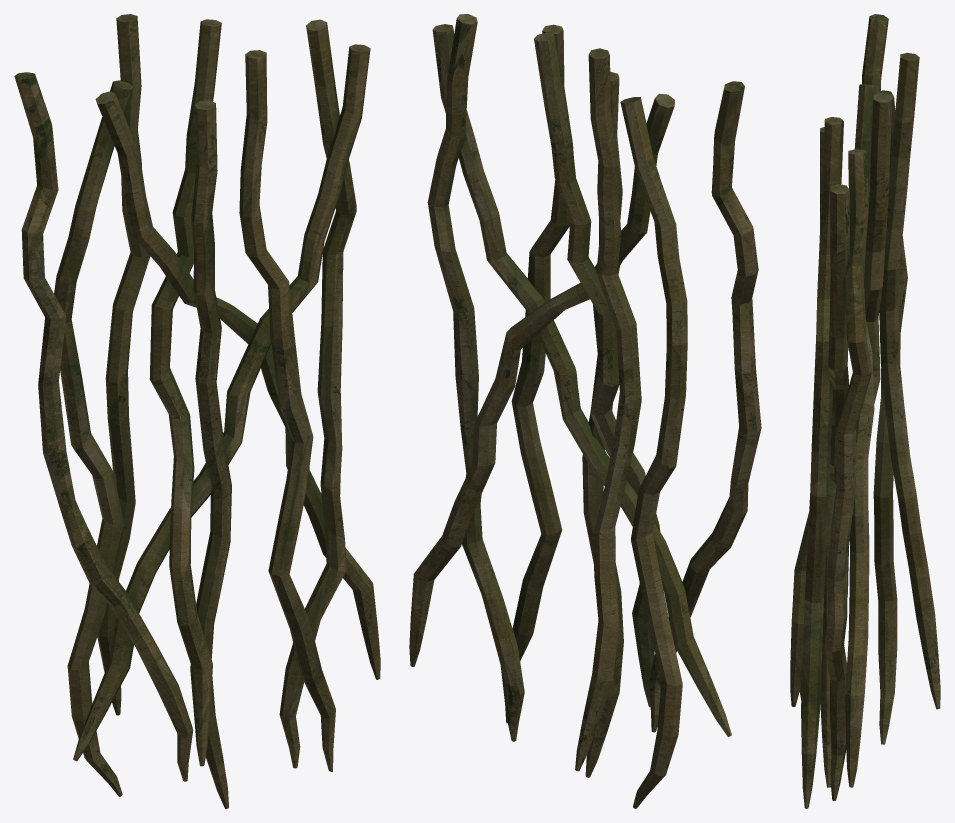
Rendered from vines.fbx.
3 views of the same model, side by side, from view 1: azimuth 30°, elevation 25°; view 2: azimuth 150°, elevation 25°; view 3: azimuth 270°, elevation 25° (orthographic). The views are drawn at different scales.
Visible parts, largest first — view 1: Vines; view 2: Vines; view 3: Vines.
Boxes of the visible parts, x1,y1,x2,y2 form: Vines: (14,14,380,808); Vines: (409,14,761,808); Vines: (790,14,940,808).
Bounding box in the file's own units: 3690 × 7763 × 1498.
Materials: 1 (1 with a texture image).
